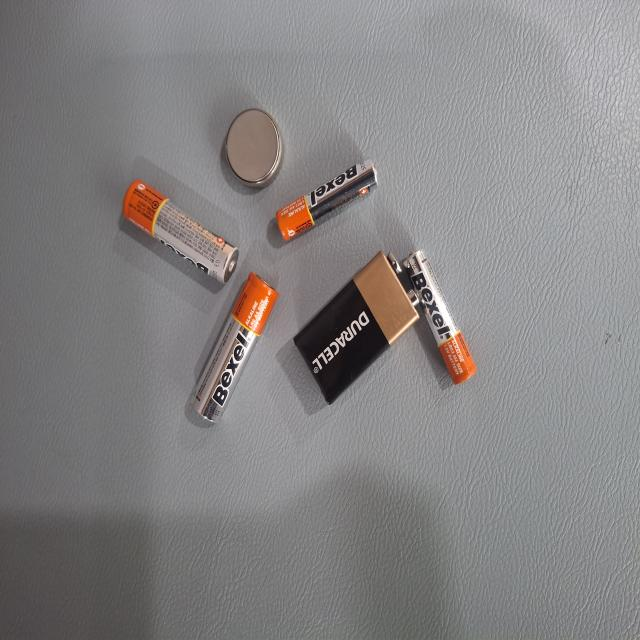9V: (187, 293, 305, 457)
AA: (203, 484, 316, 596), (135, 533, 213, 640)
AAA: (187, 220, 289, 314), (120, 351, 179, 480)
COIN: (80, 477, 141, 553)
